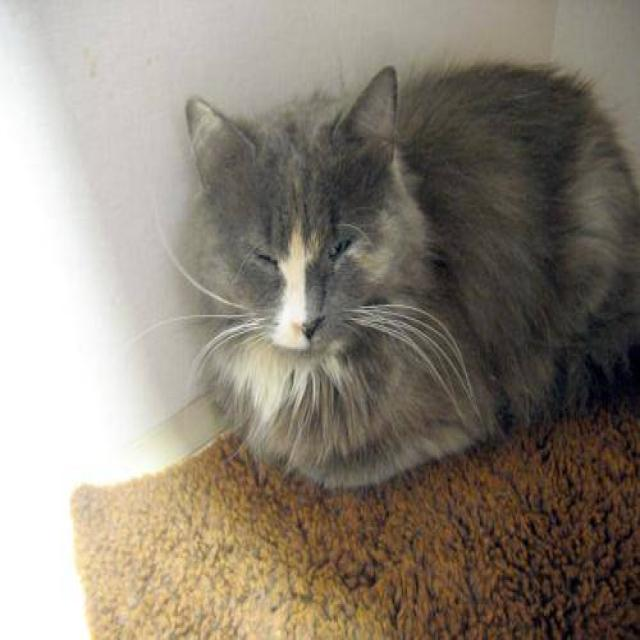cat: (138, 57, 639, 491)
